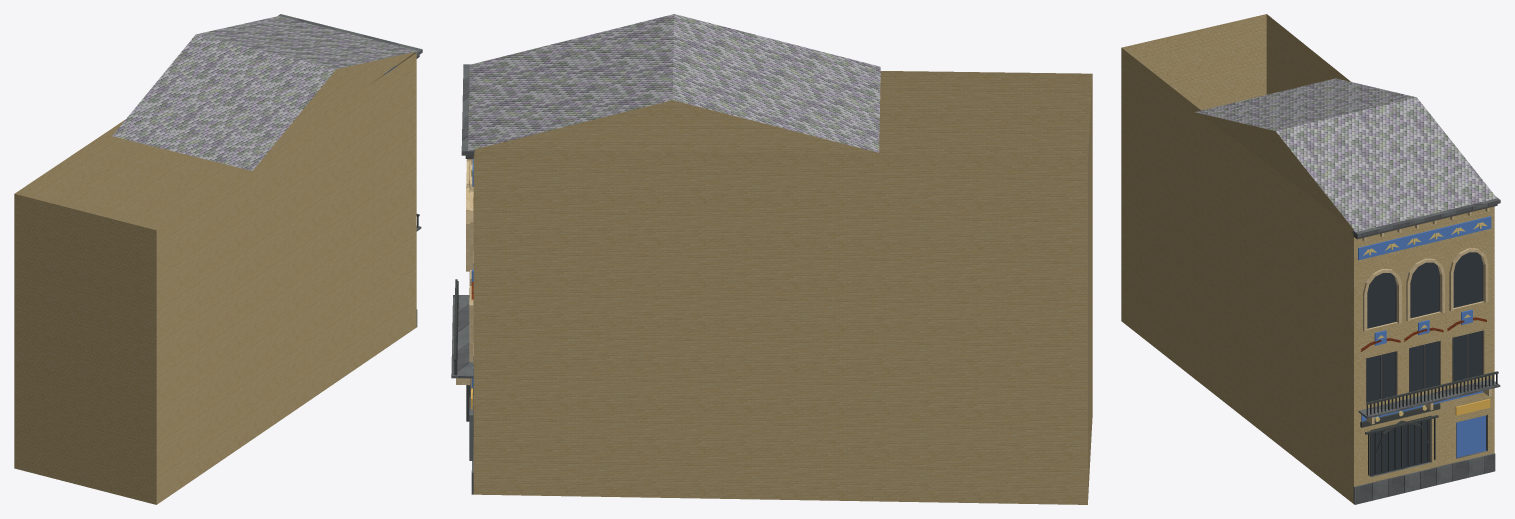
3 renders of one model, left to right at view 1: azimuth 30°, elevation 25°; view 2: azimuth 150°, elevation 25°; view 3: azimuth 270°, elevation 25°, orthographic. The views are drawn at different scales.
Parts seen in each view (by area): view 1: bldg_501637652_landmark; view 2: bldg_501637652_landmark; view 3: bldg_501637652_landmark.
Boxes of the visible parts, x1,y1,x2,y2 form: bldg_501637652_landmark: [14, 14, 422, 504]; bldg_501637652_landmark: [451, 14, 1092, 504]; bldg_501637652_landmark: [1121, 14, 1500, 504].
Bounding box in the file's own units: 23 × 15.2 × 16.58.
11 materials, 5 textured.
